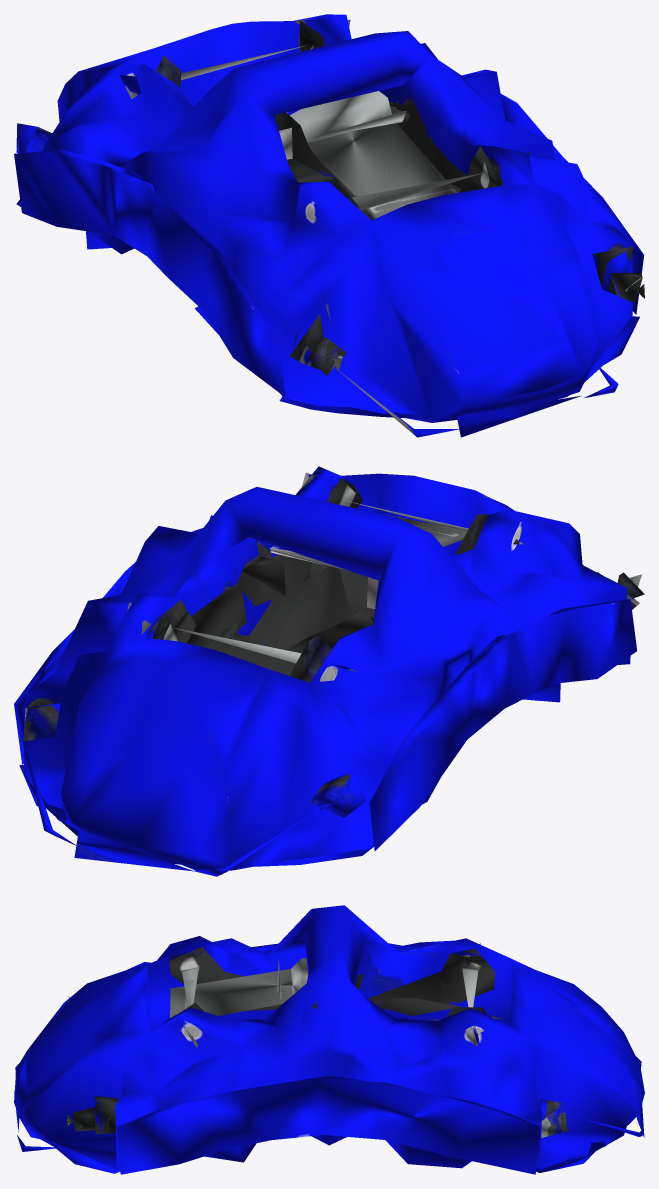
The model's file is brake_caliper_blue.obj.
3 views of the same model, one above another, from view 1: azimuth 30°, elevation 25°; view 2: azimuth 150°, elevation 25°; view 3: azimuth 270°, elevation 25° (orthographic). The views are drawn at different scales.
Parts seen in each view (by area): view 1: part; view 2: part; view 3: part.
Boxes of the visible parts, box(x1,y1,x2,y2) form: part: box(14, 14, 644, 437); part: box(14, 466, 644, 876); part: box(14, 905, 644, 1174).
Size of the model in its own units: 0.1512 by 0.0883 by 0.2787.
